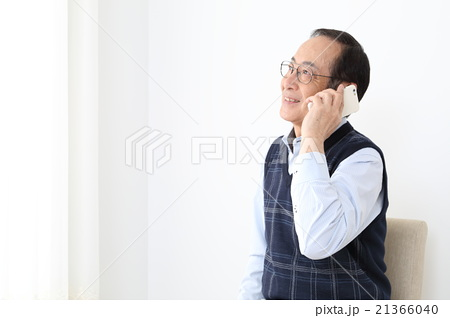phone: (302, 83, 355, 127)
talk: (278, 56, 359, 144)
